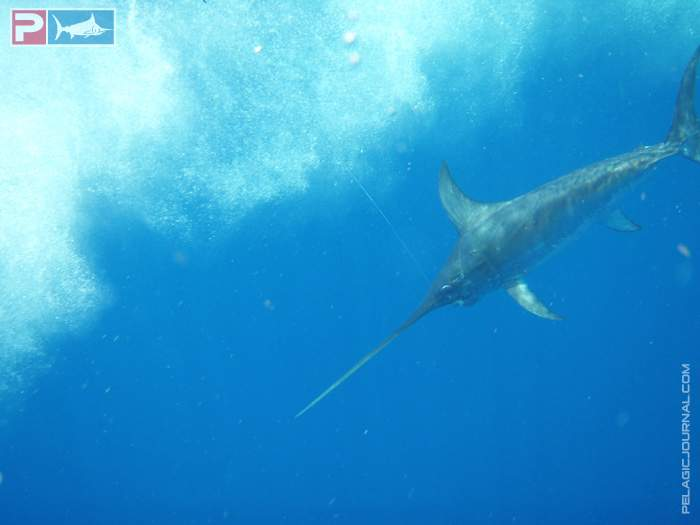swordfish: (288, 57, 700, 431)
